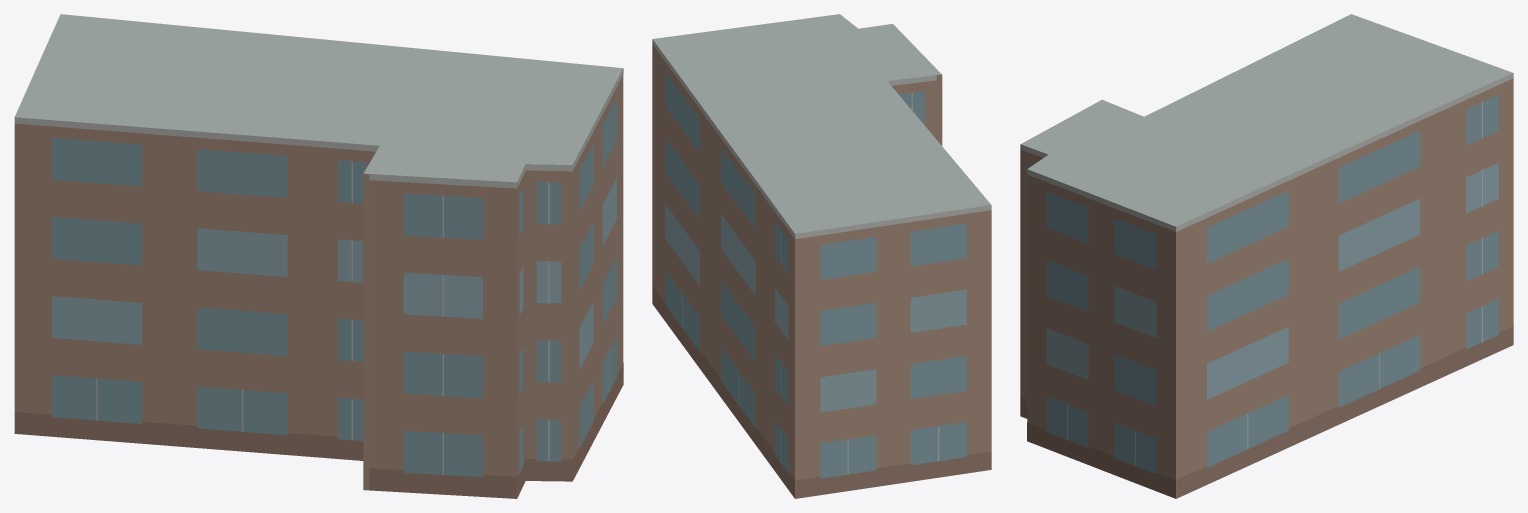
File: survey-upis-32616173.glb
3 views of the same model, side by side, from view 1: azimuth 30°, elevation 25°; view 2: azimuth 150°, elevation 25°; view 3: azimuth 270°, elevation 25° (orthographic). The views are drawn at different scales.
Parts seen in each view (by area): view 1: survey-upis-32616173.tmp; view 2: survey-upis-32616173.tmp; view 3: survey-upis-32616173.tmp.
Boxes of the visible parts, bbox=[...] form: survey-upis-32616173.tmp: bbox=[14, 14, 623, 498]; survey-upis-32616173.tmp: bbox=[652, 14, 991, 498]; survey-upis-32616173.tmp: bbox=[1020, 14, 1513, 498].
Size of the model in its own units: 20.8 by 12.4 by 20.37.
